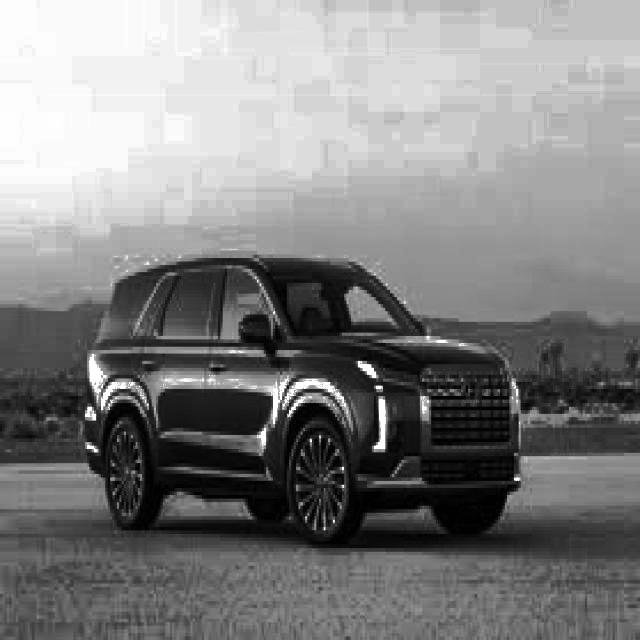Car: (78, 240, 534, 576)
